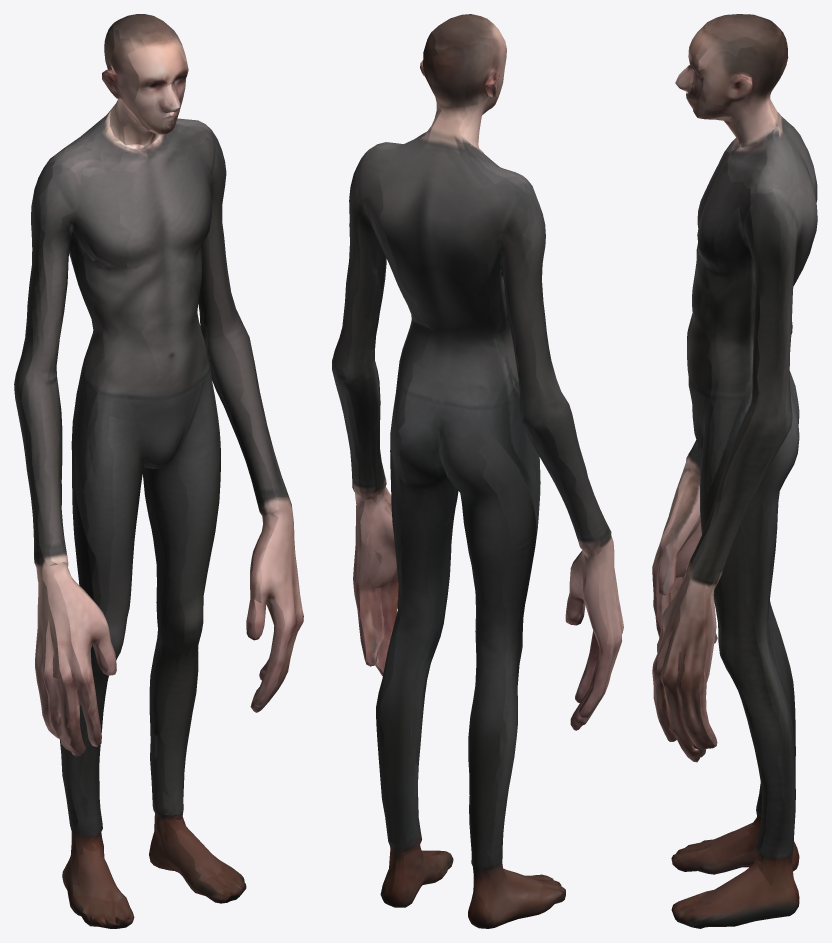
File: ghost_thin.glb
3 views of the same model, side by side, from view 1: azimuth 30°, elevation 25°; view 2: azimuth 150°, elevation 25°; view 3: azimuth 270°, elevation 25° (orthographic).
Visible parts, largest first — view 1: geometry_0; view 2: geometry_0; view 3: geometry_0.
Boxes of the visible parts, <box> form: geometry_0: <box>14,14,303,928</box>; geometry_0: <box>332,14,623,928</box>; geometry_0: <box>652,14,817,928</box>.
Bounding box in the file's own units: 0.5883 × 1.9 × 0.3251.
Materials: 1 (1 with a texture image).
